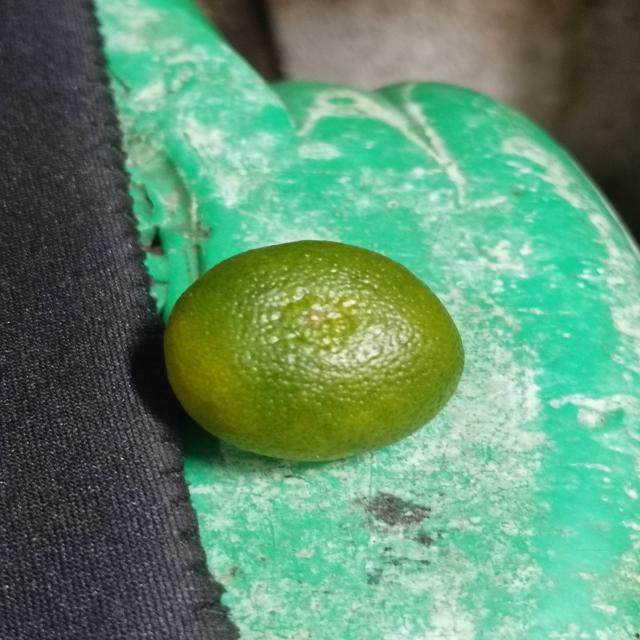heathy: (154, 234, 468, 462)
